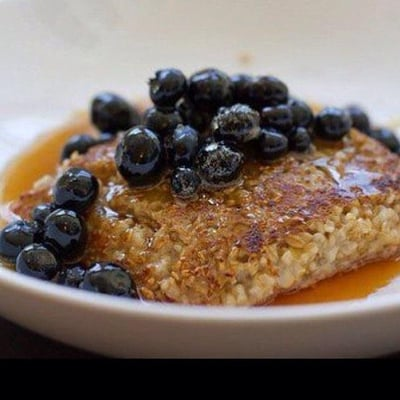sushi: (0, 67, 397, 356)
